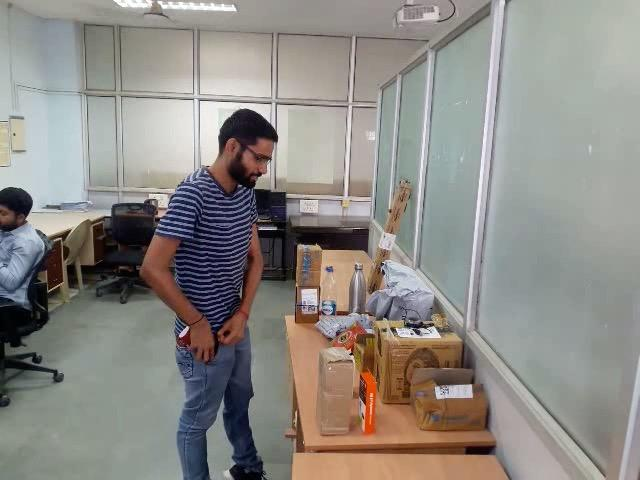shoplifting: (146, 292, 296, 373)
